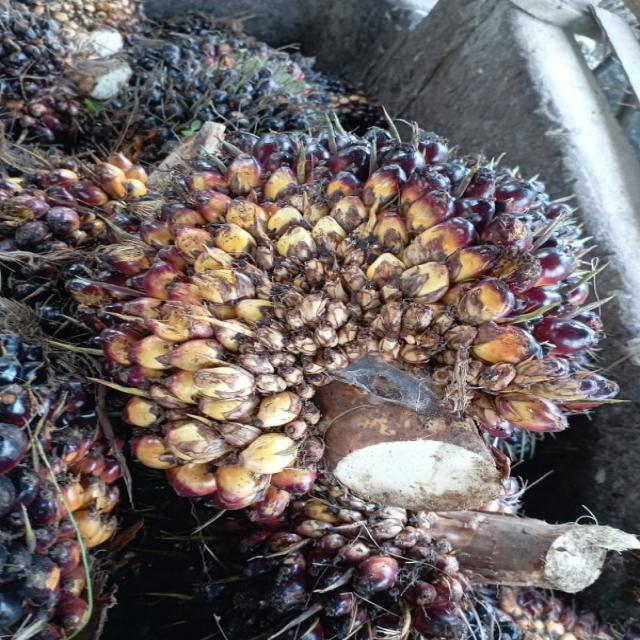fraksi 1: (40, 85, 636, 525)
